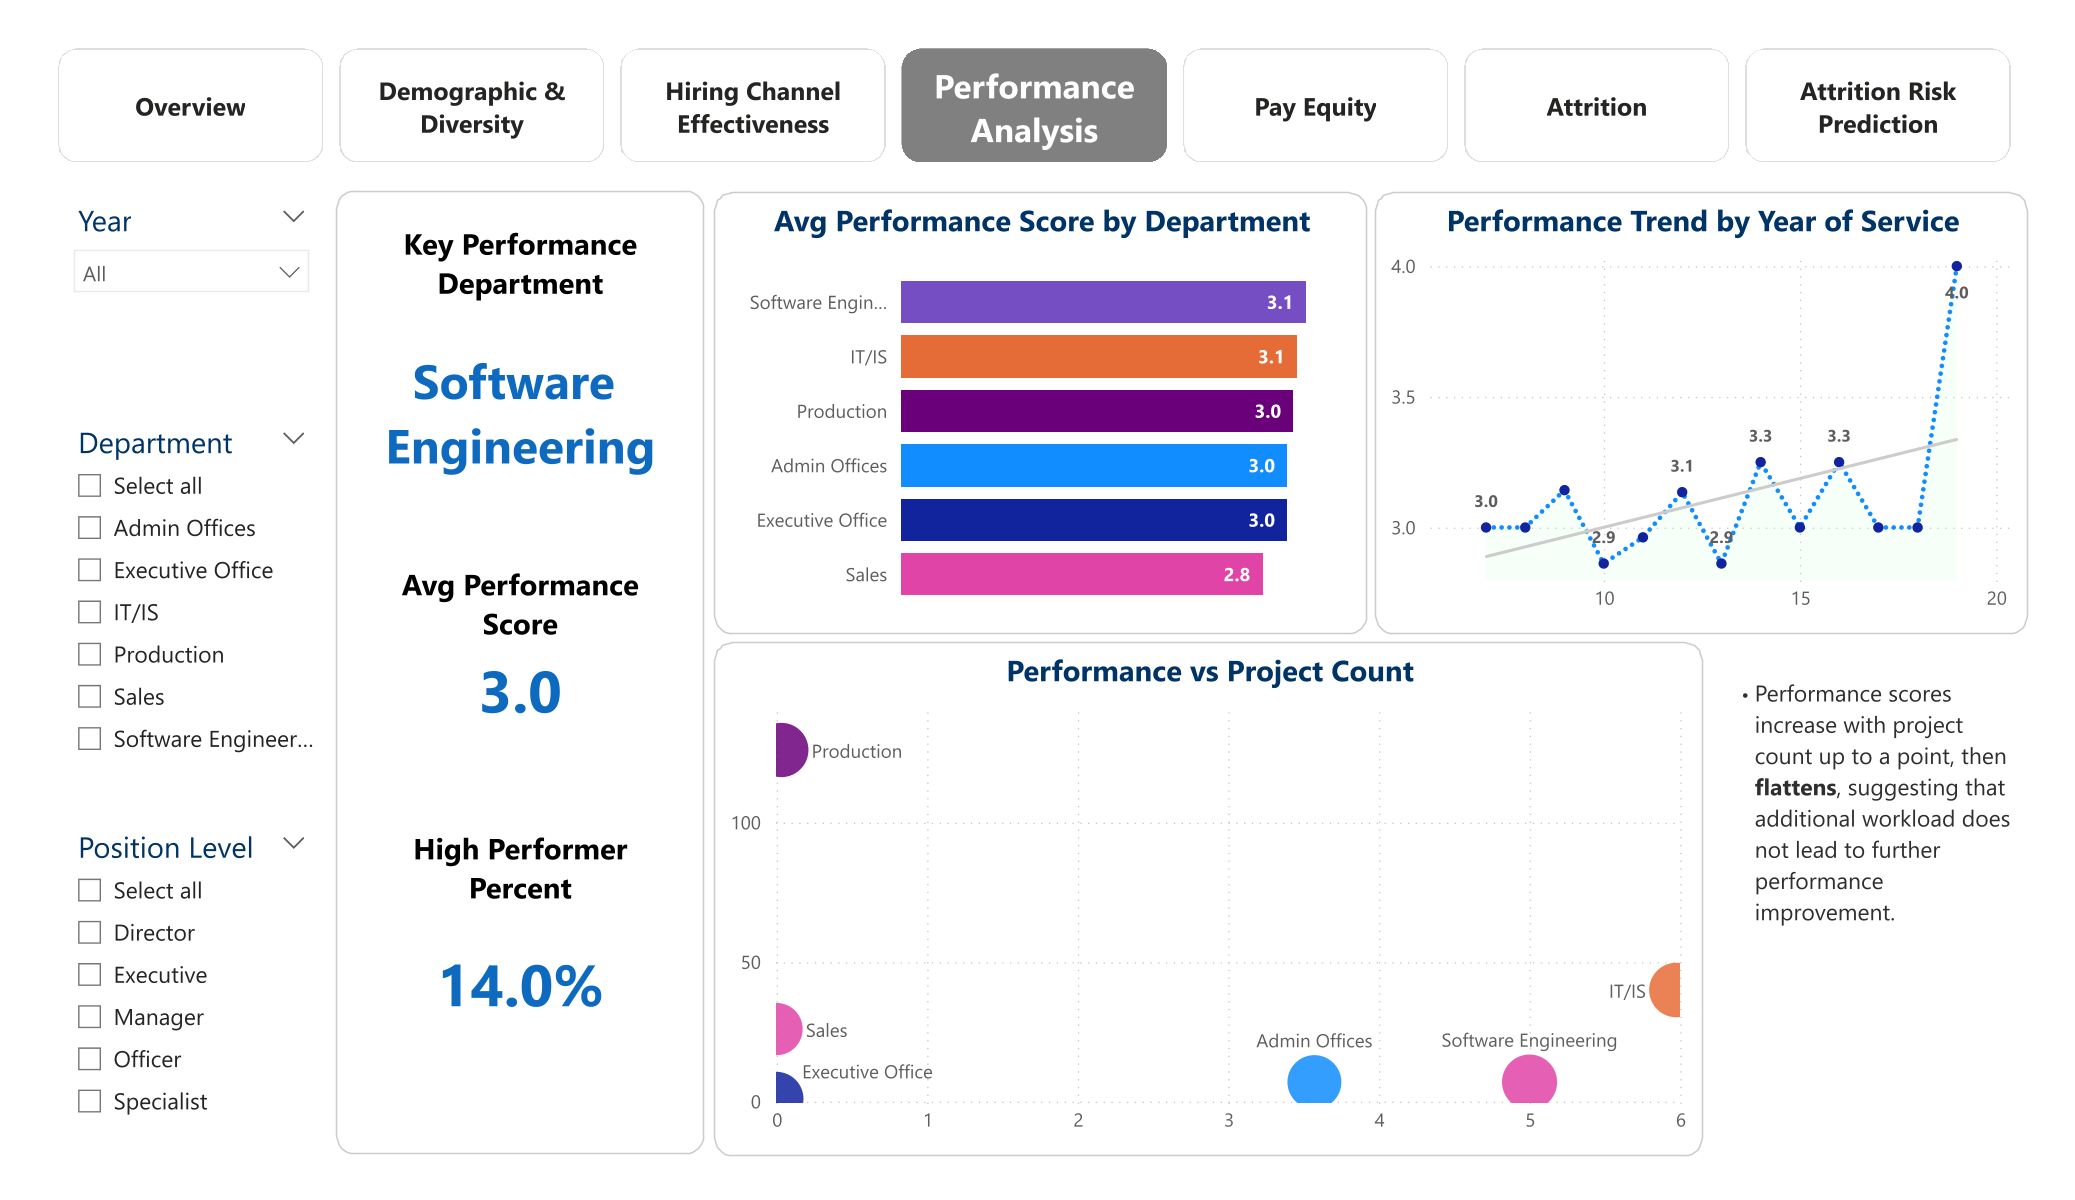

This screenshot's page, from the dashboard's own definition file:
{"tool":"powerbi","page":{"name":"Performance Analysis","canvas":[1280,720],"ordinal":3},"visuals":[{"type":"shape","box":[191.5,98.1,235.9,616.7],"z":0,"group":"g1"},{"type":"slicer","fields":{"Values":["DIM-Dept.Department"]},"box":[13,240.8,170.8,248.9],"z":0},{"type":"slicer","fields":{"Values":["DIM-Position.Position Level"]},"box":[13,499.5,170.8,216.4],"z":1000},{"type":"slicer","fields":{"Values":["FACT-HRData.Last Perf Review Date.Variation.Date Hierarchy.Year"]},"box":[13,99.3,170.8,130.2],"z":2000},{"type":"group","id":"g1","title":"Group 1","box":[191.5,98.1,235.9,616.7],"z":3000},{"type":"clusteredBarChart","title":"Avg Performance Score by Department","fields":{"Category":["DIM-Dept.Department"],"Y":["FACT-HRData.AvgPefScore"]},"box":[432.8,99.3,418.2,283.1],"z":4000},{"type":"card","title":"Avg Performance Score","fields":{"Values":["FACT-HRData.AvgPefScore"]},"box":[209.4,337.3,200.1,112.3],"z":4000,"group":"g1"},{"type":"card","title":"Key Performance Department","fields":{"Values":["FACT-HRData.TopPerfDept"]},"box":[209.4,119.3,200.1,183.9],"z":5000,"group":"g1"},{"type":"lineChart","title":"Performance Trend by Year of Service","fields":{"Y":["FACT-HRData.AvgPefScore"],"Category":["FACT-HRData.YearofService"]},"box":[855.9,99.3,418.2,283.1],"z":5000},{"type":"scatterChart","title":"Performance vs Project Count","fields":{"Y":["FACT-HRData.Active_HC"],"X":["FACT-HRData.SpecialProject"],"Series":["DIM-Dept.Department"],"Size":["FACT-HRData.AvgPefScore"]},"box":[432.8,387.3,632.9,328.7],"z":6000},{"type":"card","title":"High Performer Percent","fields":{"Values":["FACT-HRData.%Exceed"]},"box":[209.4,506.5,200.1,149.7],"z":6000,"group":"g1"},{"type":"textbox","box":[1075.5,387.3,198.5,327.1],"z":7000},{"type":"pageNavigator","box":[13.3,6.7,1255,73.3],"z":8000}]}

Visuals, with their boxes in screenshot pixels (x1, y1, x2, y2):
shape: 337,191,705,1154
slicer - DIM-Dept.Department: 58,414,325,803
slicer - DIM-Position.Position Level: 58,818,325,1156
slicer - FACT-HRData.Last Perf Review Date.Variation.Date Hierarchy.Year: 58,193,325,396
"Group 1" group: 337,191,705,1154
"Avg Performance Score by Department" clusteredBarChart: 714,193,1367,635
"Avg Performance Score" card: 365,565,677,740
"Key Performance Department" card: 365,224,677,511
"Performance Trend by Year of Service" lineChart: 1375,193,2028,635
"Performance vs Project Count" scatterChart: 714,643,1703,1156
"High Performer Percent" card: 365,829,677,1063
textbox: 1718,643,2028,1154
pageNavigator: 58,48,2019,162
